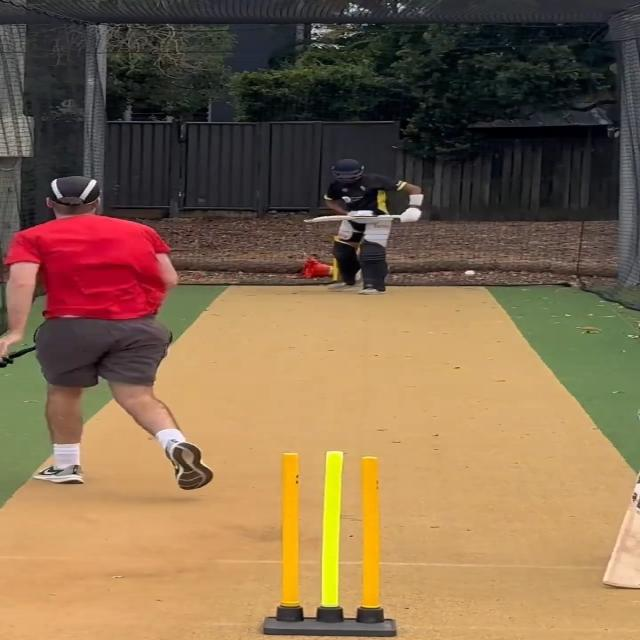ball: (464, 270, 476, 277)
stump: (263, 450, 394, 638)
